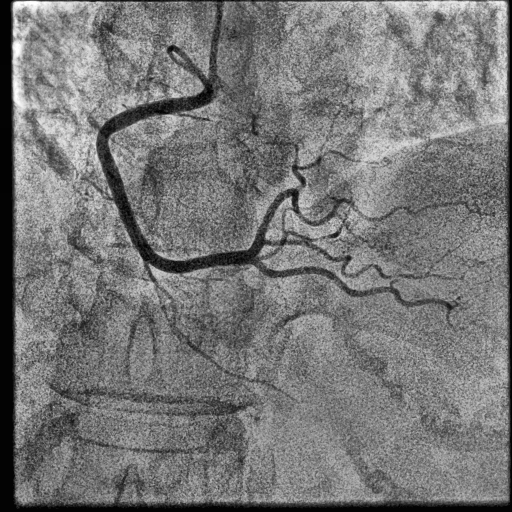pborca: (248, 188, 438, 257)
pda: (246, 257, 453, 309)
rca: (96, 86, 254, 274)
